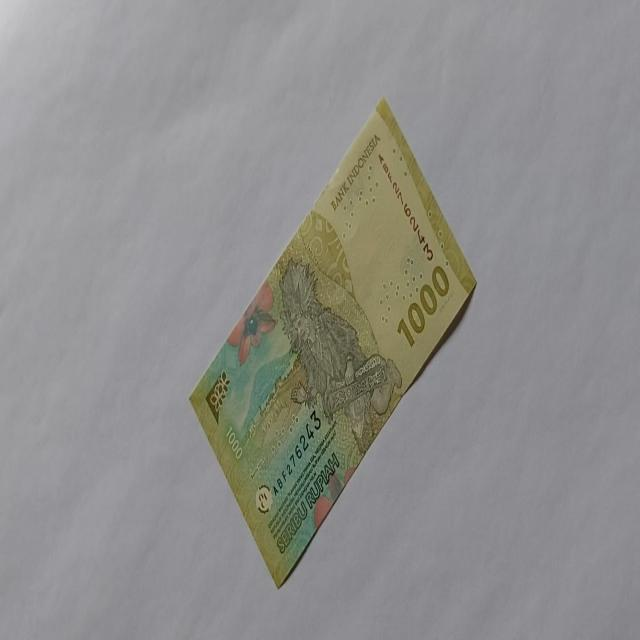seribu rupiah kertas: (187, 95, 477, 589)
